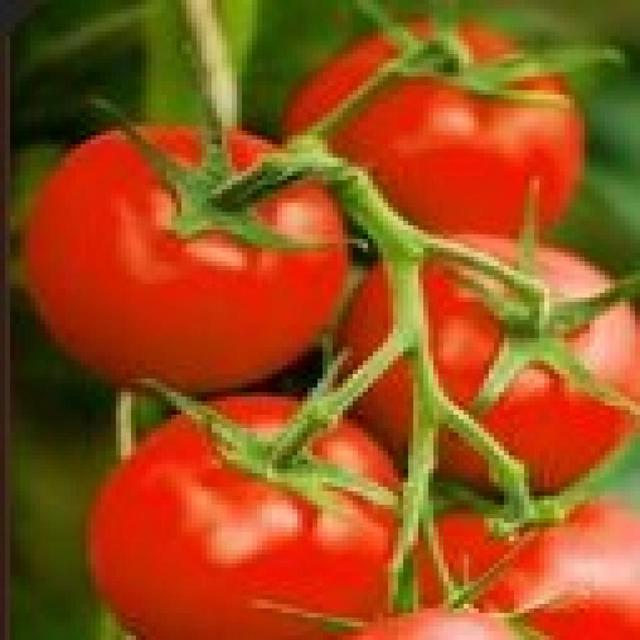Healthy Fruit: (131, 86, 339, 376)
